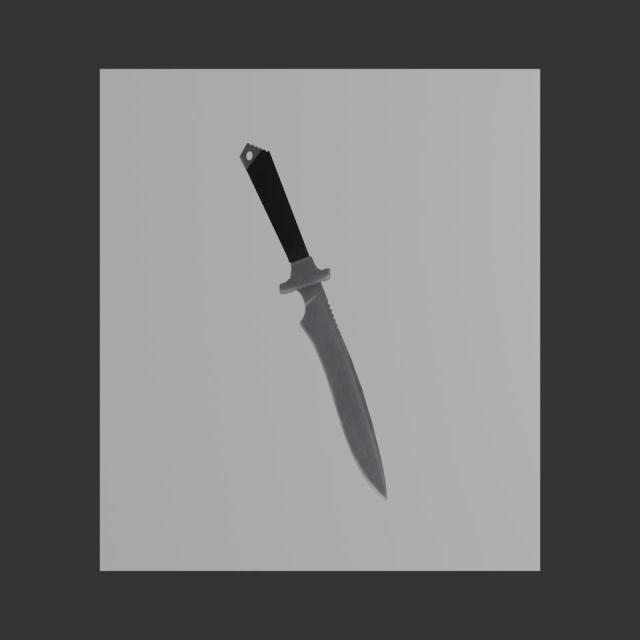knife: (240, 144, 309, 264)
